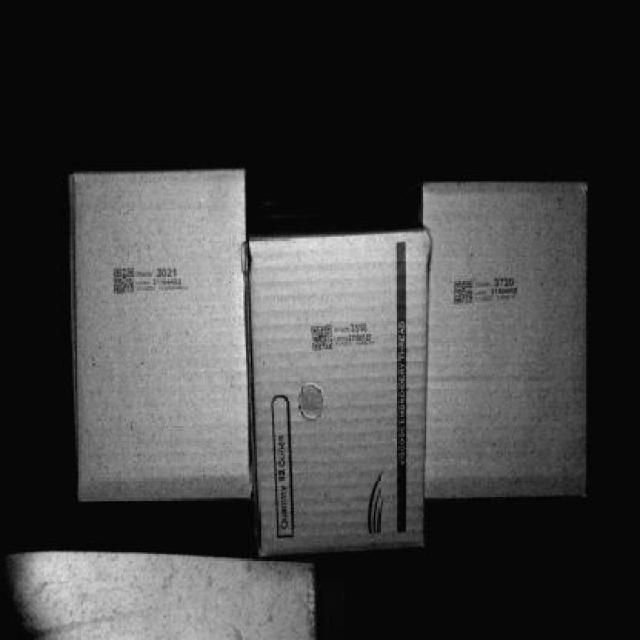cardboxes: (75, 175, 248, 500), (245, 245, 429, 548), (427, 182, 590, 500)
